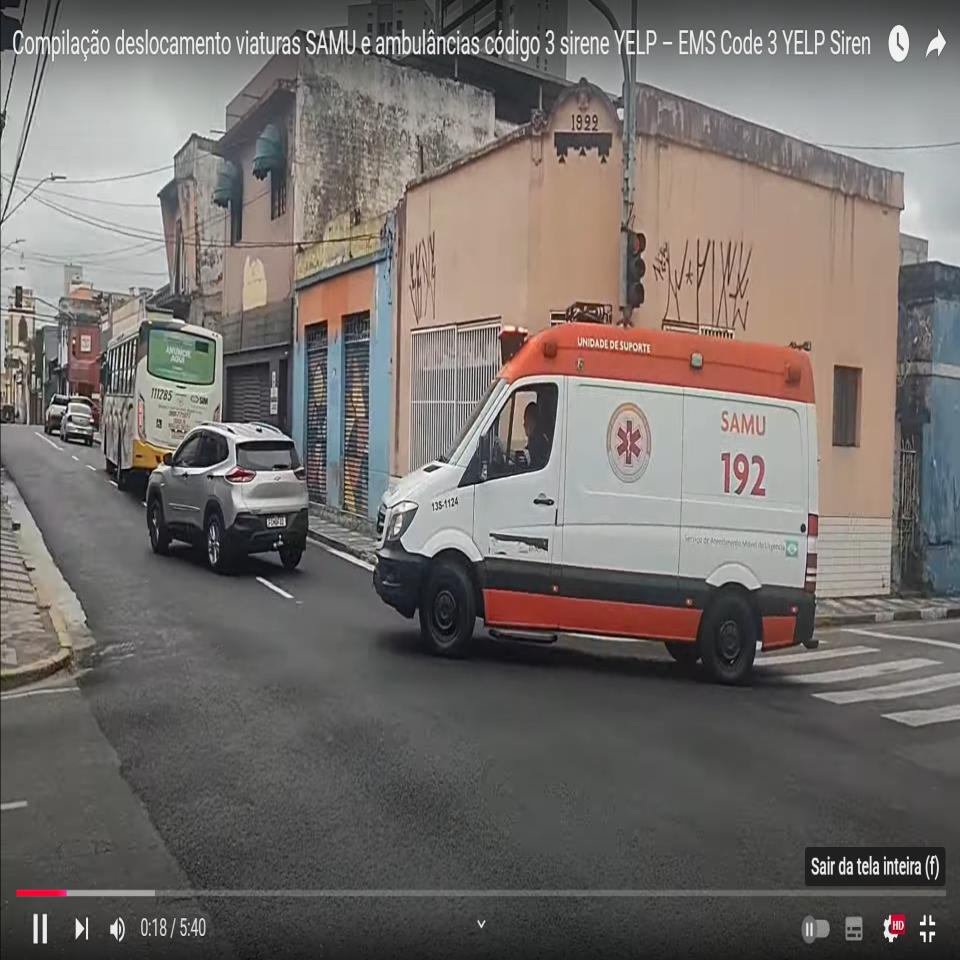bombeiro: (374, 313, 824, 684)
